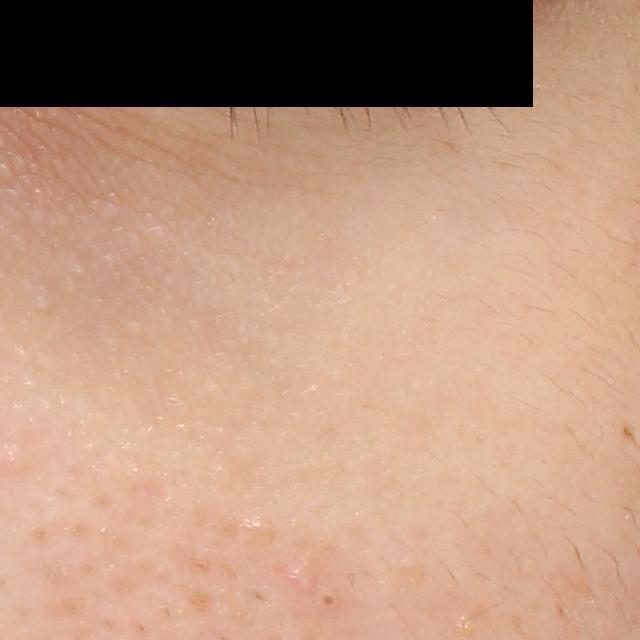comedo: (237, 514, 270, 552), (318, 589, 342, 610)
